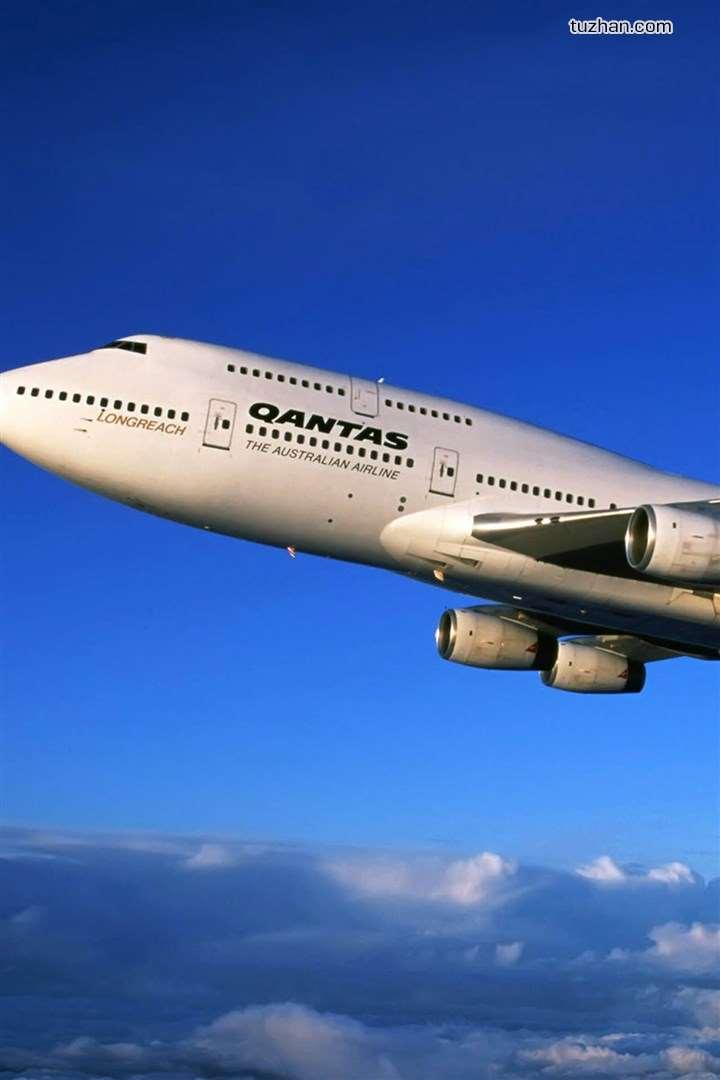airplane: (1, 329, 720, 695)
